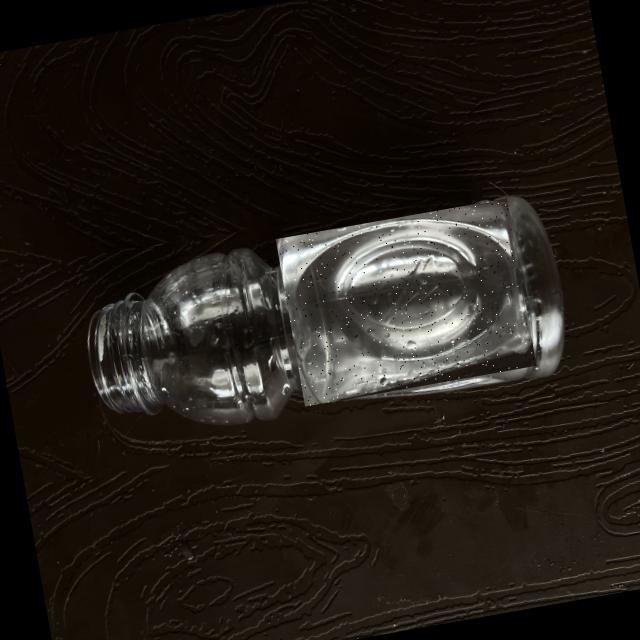PET_With_Liquid: (282, 218, 531, 401)
